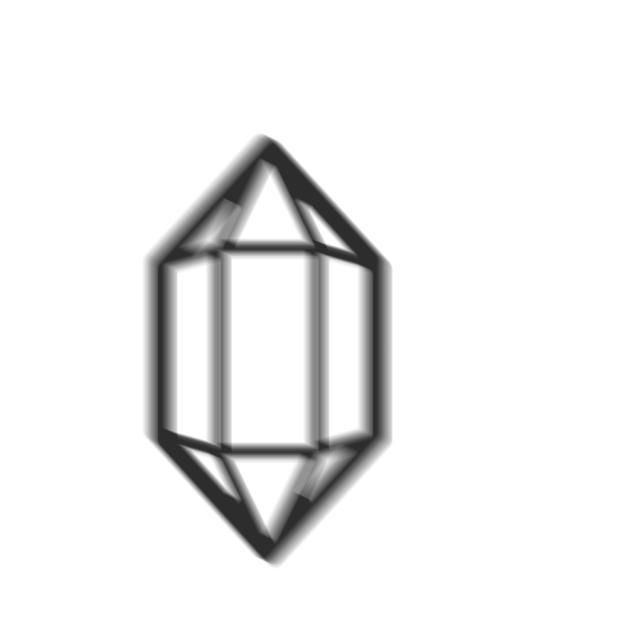crystal: (134, 126, 402, 573)
